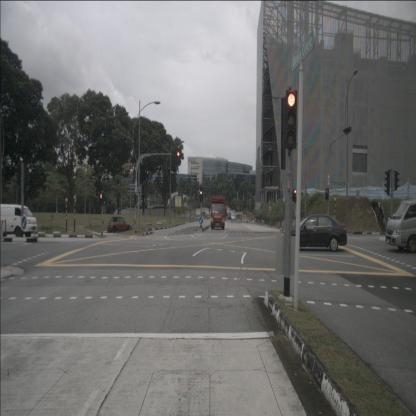vehicle-car: (284, 212, 348, 252), (385, 198, 416, 254), (0, 204, 38, 237), (108, 217, 131, 234), (231, 214, 236, 222)
vehicle-truck: (210, 194, 226, 229)
